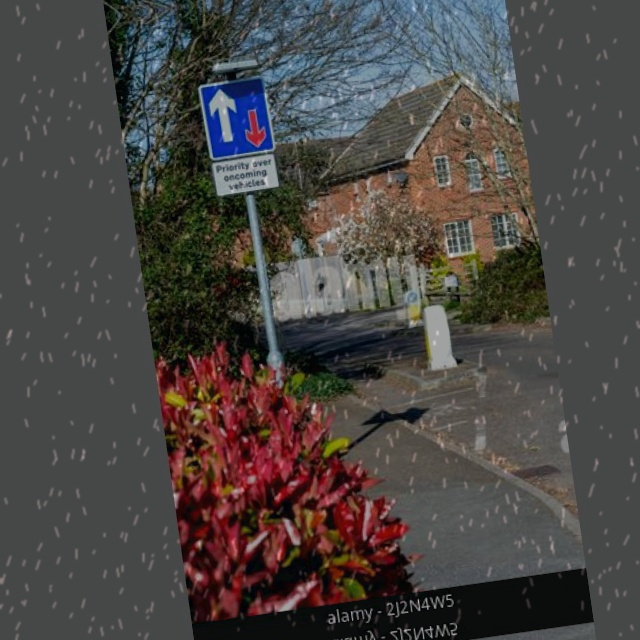Priority_for_Oncoming_Traffic: (198, 75, 276, 160)
